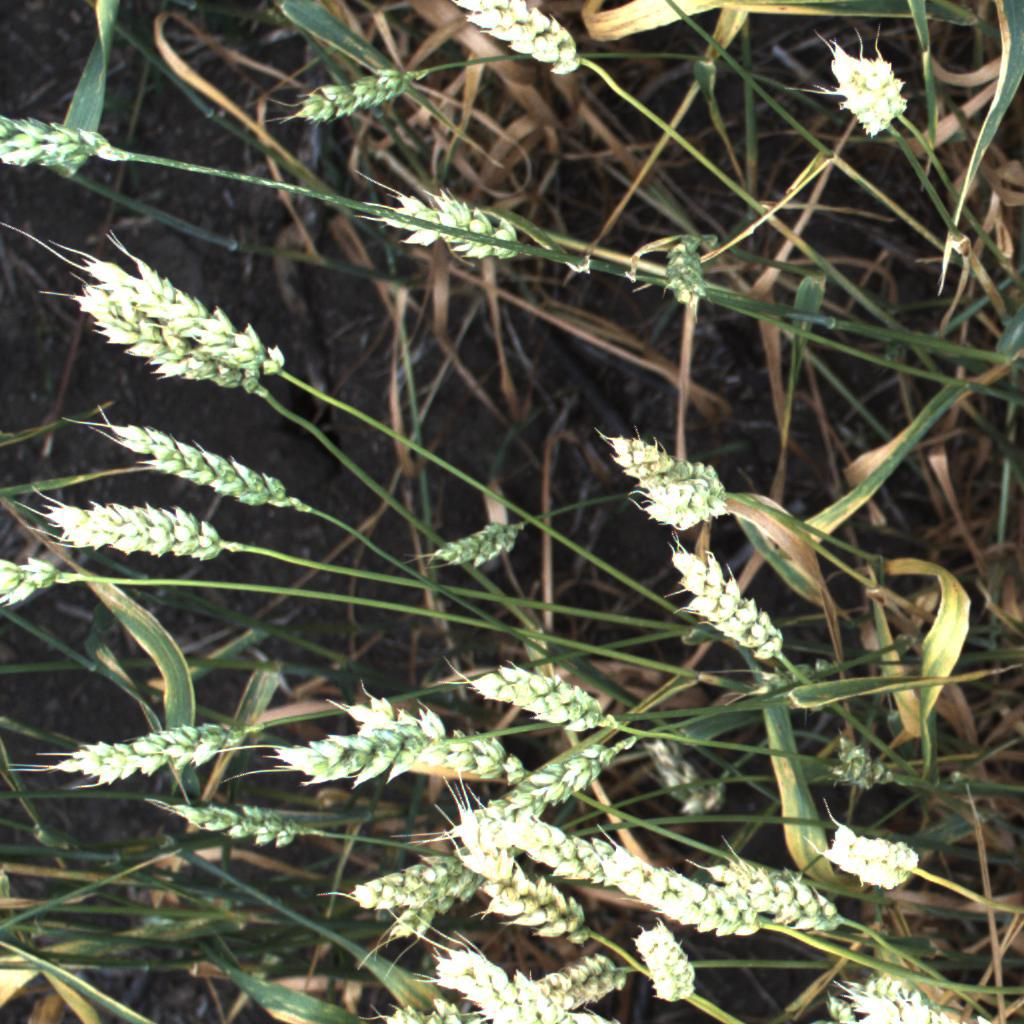0-0: (77, 239, 298, 383), (51, 272, 273, 403), (87, 410, 322, 519), (650, 528, 803, 675), (326, 682, 538, 787), (407, 943, 648, 1024), (595, 836, 770, 946), (443, 645, 628, 743), (45, 713, 261, 793), (478, 727, 642, 820), (466, 798, 626, 889), (818, 30, 924, 163), (43, 495, 233, 568), (133, 786, 330, 856), (700, 850, 854, 939), (467, 849, 602, 947), (328, 842, 500, 913), (270, 716, 441, 787), (445, 0, 591, 83), (597, 424, 743, 506), (380, 191, 519, 271), (812, 962, 988, 1024), (0, 107, 128, 181), (377, 860, 480, 950), (285, 59, 428, 123), (618, 917, 705, 1005), (629, 471, 744, 537), (817, 816, 921, 888), (424, 505, 530, 573), (659, 223, 718, 307), (0, 551, 73, 612), (820, 742, 903, 795), (357, 1003, 564, 1024), (449, 834, 527, 889)
